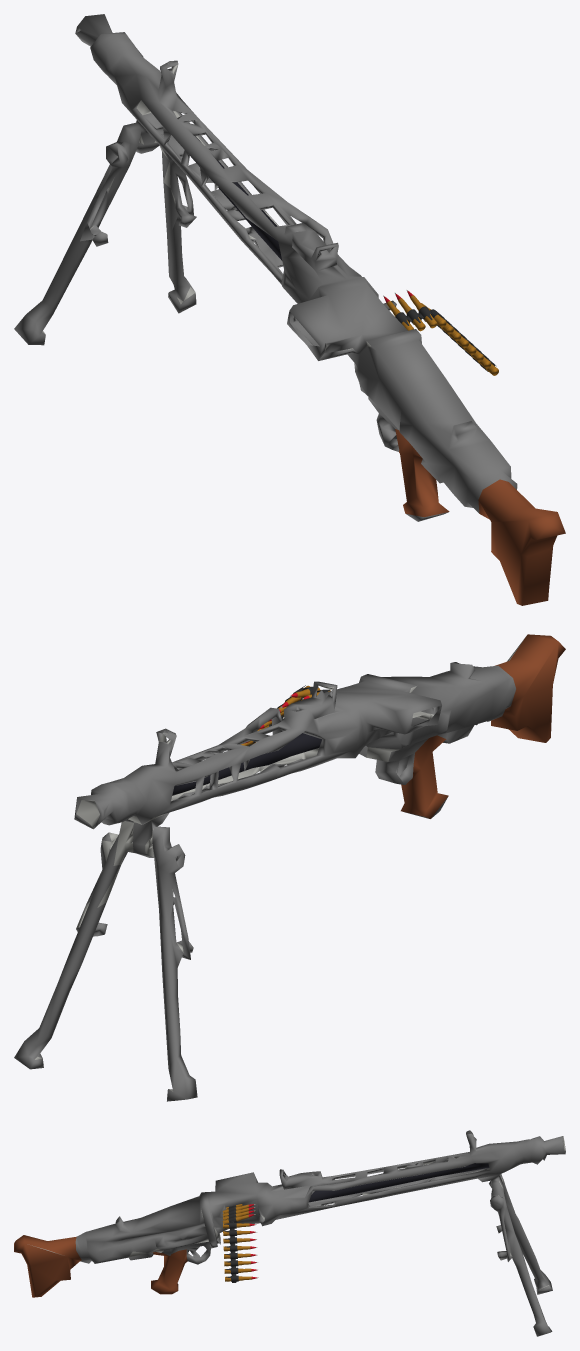
The picture shows the model from 3 angles, top to bottom: view 1: azimuth 30°, elevation 25°; view 2: azimuth 150°, elevation 25°; view 3: azimuth 270°, elevation 25°; orthographic projection. The views are drawn at different scales.
Visible parts, largest first — view 1: tripo_node_c5eab918-3313-4cfe-8bb7-cff9e49162a2; view 2: tripo_node_c5eab918-3313-4cfe-8bb7-cff9e49162a2; view 3: tripo_node_c5eab918-3313-4cfe-8bb7-cff9e49162a2.
Boxes of the visible parts, x1=… form: tripo_node_c5eab918-3313-4cfe-8bb7-cff9e49162a2: x1=14, y1=14, x2=565, y2=605; tripo_node_c5eab918-3313-4cfe-8bb7-cff9e49162a2: x1=14, y1=634, x2=565, y2=1101; tripo_node_c5eab918-3313-4cfe-8bb7-cff9e49162a2: x1=14, y1=1130, x2=565, y2=1336.
Bounding box in the file's own units: 26.59 × 36.72 × 99.9.
